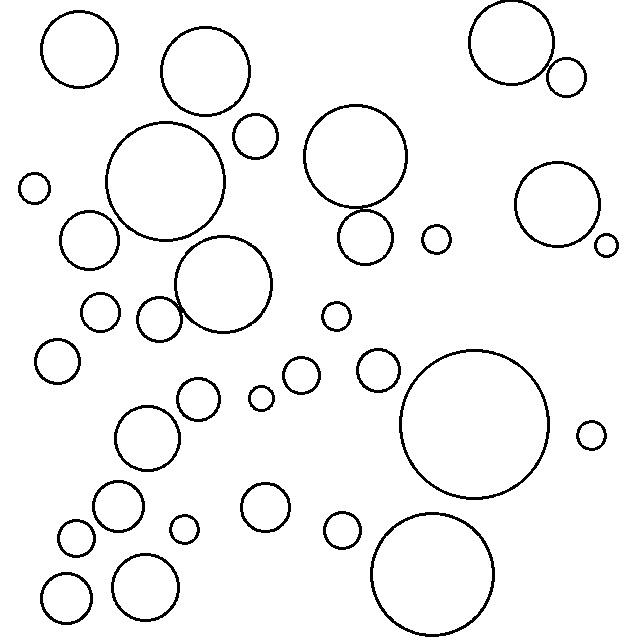circle: (397, 346, 553, 503), (369, 508, 498, 638), (103, 120, 228, 245), (301, 100, 411, 211), (172, 233, 277, 337), (158, 23, 254, 119), (512, 158, 603, 249), (466, 0, 557, 90), (39, 8, 121, 91), (109, 550, 183, 624), (112, 401, 183, 475), (57, 207, 122, 273), (335, 204, 397, 268), (37, 569, 96, 626), (90, 478, 146, 535), (238, 479, 294, 534), (229, 109, 282, 162), (31, 335, 84, 387), (134, 293, 186, 344), (354, 344, 404, 397), (175, 372, 224, 424), (77, 289, 123, 335), (545, 54, 589, 100), (321, 508, 365, 552), (280, 353, 324, 396), (55, 517, 98, 560), (16, 168, 55, 207), (575, 417, 610, 453), (167, 511, 202, 547), (420, 221, 454, 258), (320, 298, 353, 335), (245, 381, 278, 414), (593, 231, 622, 260)
